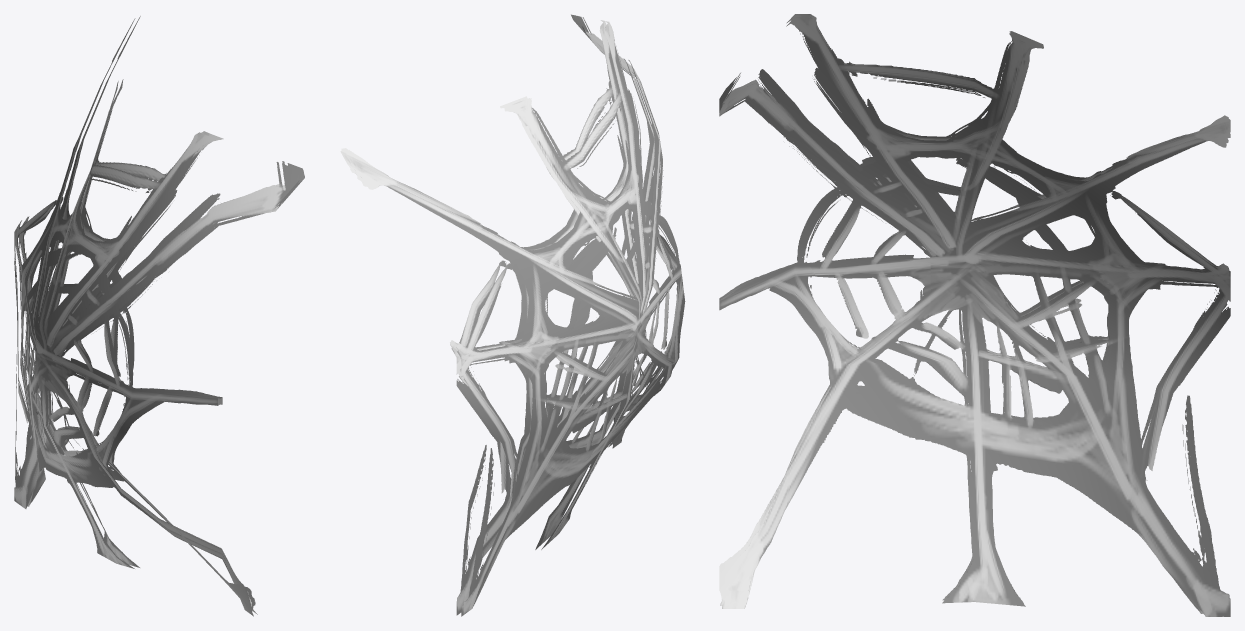
The model's file is telaraña.fbx.
3 renders of one model, left to right at view 1: azimuth 30°, elevation 25°; view 2: azimuth 150°, elevation 25°; view 3: azimuth 270°, elevation 25°, orthographic. The views are drawn at different scales.
Visible parts, largest first — view 1: pCube5; view 2: pCube5; view 3: pCube5.
Boxes of the visible parts, <box> form: pCube5: <box>14,16,304,616</box>; pCube5: <box>340,14,685,616</box>; pCube5: <box>719,14,1230,616</box>.
Size of the model in its own units: 2.54 by 5.69 by 4.3.
